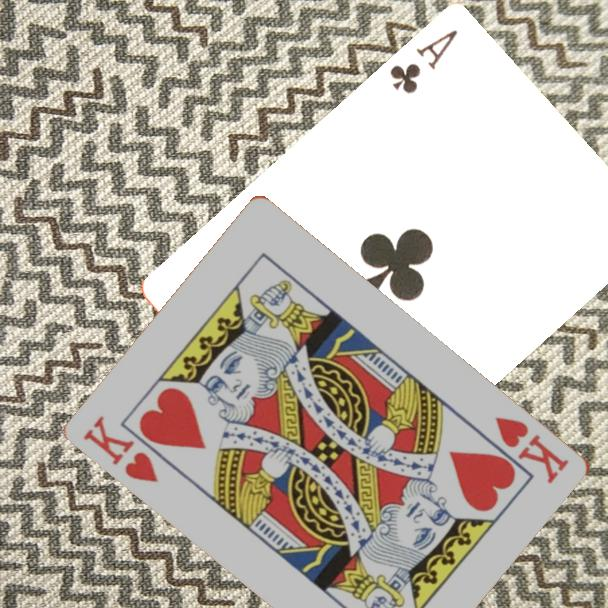c01: (385, 25, 461, 97)
h13: (79, 411, 162, 486), (491, 412, 573, 487)
